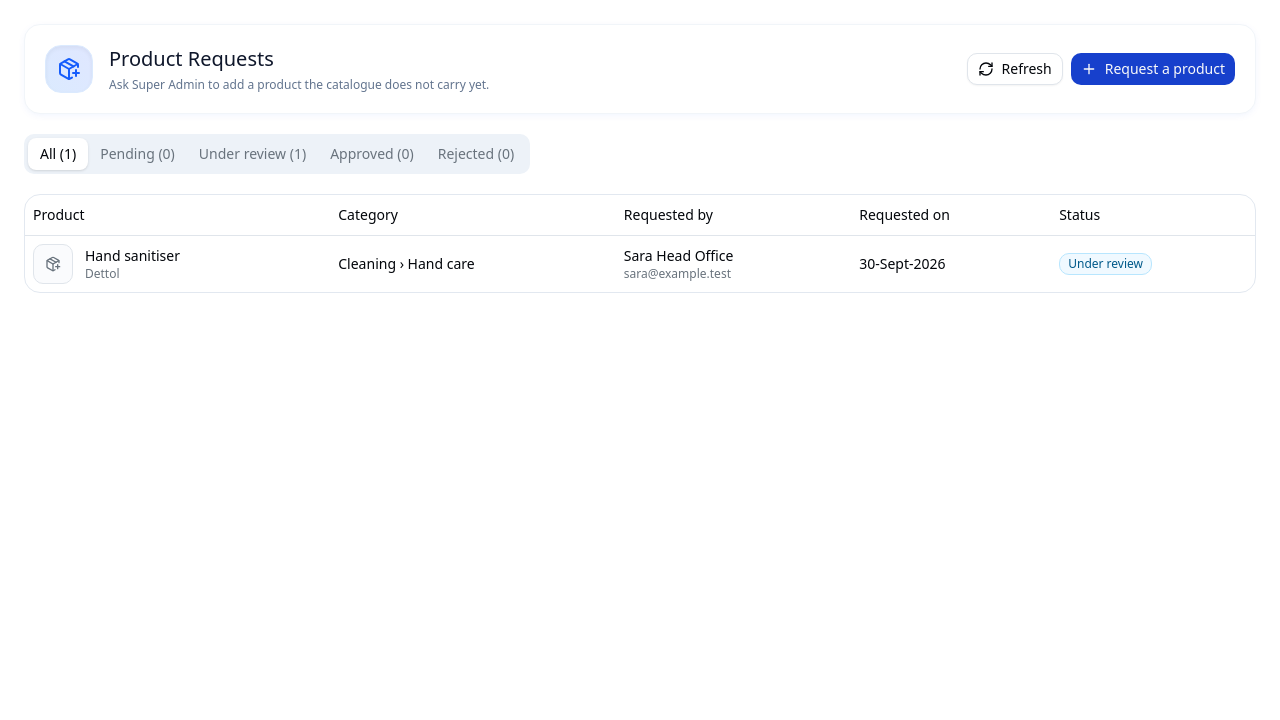
Test case: ProductRequestsView for Head Office › shows a request Super Admin is working on as under review, with who and since when
Expected: the text "Under review" is shown, [1059,252,1152,274]
Click the row named "Open request for Hand sanitiser": [640, 263] box [25,235,1255,292]
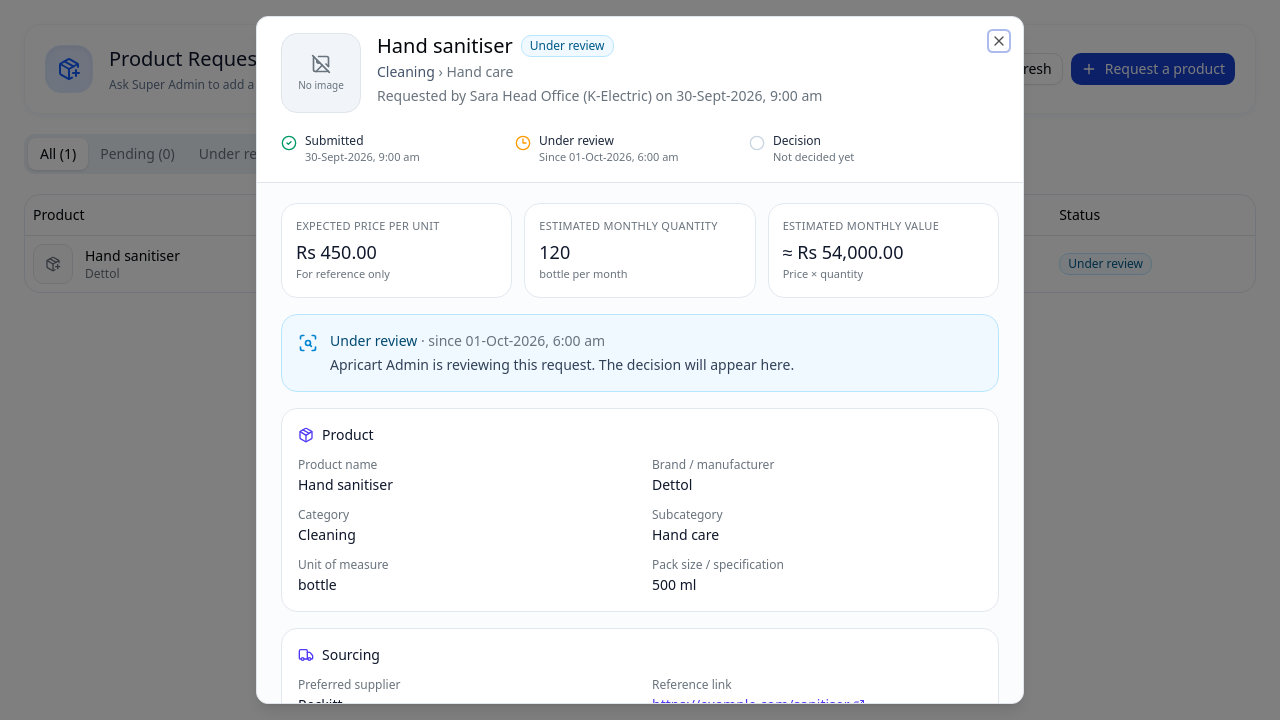
Expected: the text "Apricart Admin is reviewing this request. The decision will appear here." is shown, [330,354,794,374]
